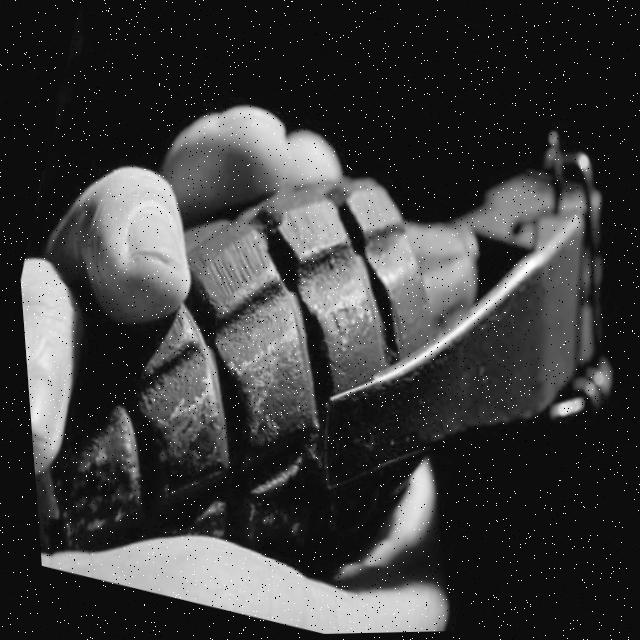grenade: (1, 11, 640, 640)
